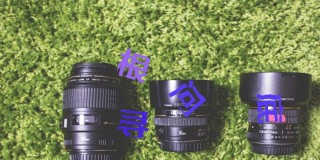寻: (117, 108, 150, 139)
底: (255, 92, 284, 125)
根: (116, 47, 150, 83)
问: (169, 80, 206, 117)
